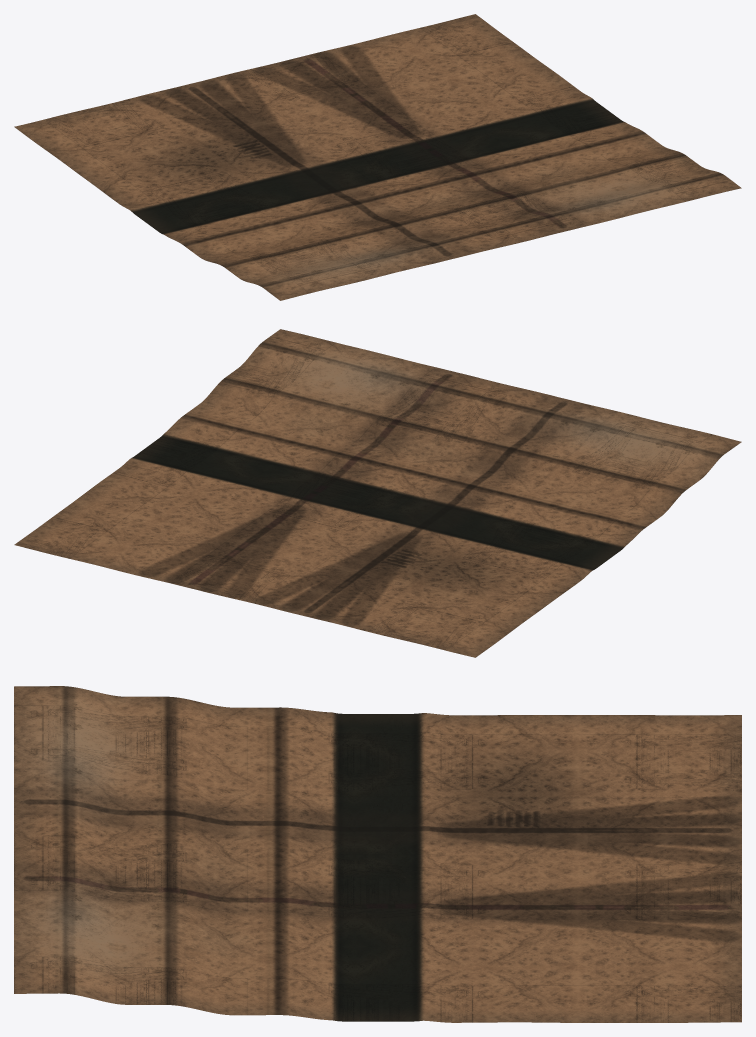
File: incline-terrain.glb
3 renders of one model, top to bottom at view 1: azimuth 30°, elevation 25°; view 2: azimuth 150°, elevation 25°; view 3: azimuth 270°, elevation 25°, orthographic. The views are drawn at different scales.
Visible parts, largest first — view 1: InclineTerrain; view 2: InclineTerrain; view 3: InclineTerrain.
Part boxes in pixels (bbox=[...]): InclineTerrain: bbox=[14, 14, 741, 300]; InclineTerrain: bbox=[14, 329, 741, 657]; InclineTerrain: bbox=[14, 686, 741, 1022].
Size of the model in its own units: 96 by 4.33 by 96.
1 material, 1 textured.
